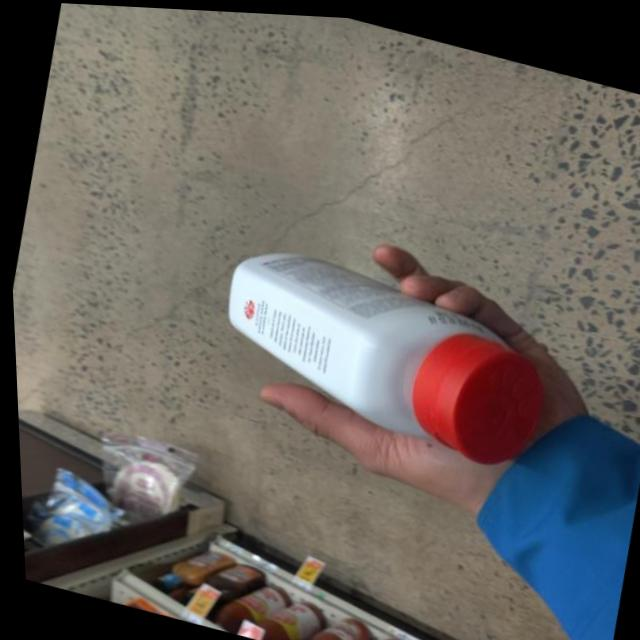Sauce: (192, 216, 567, 478)
